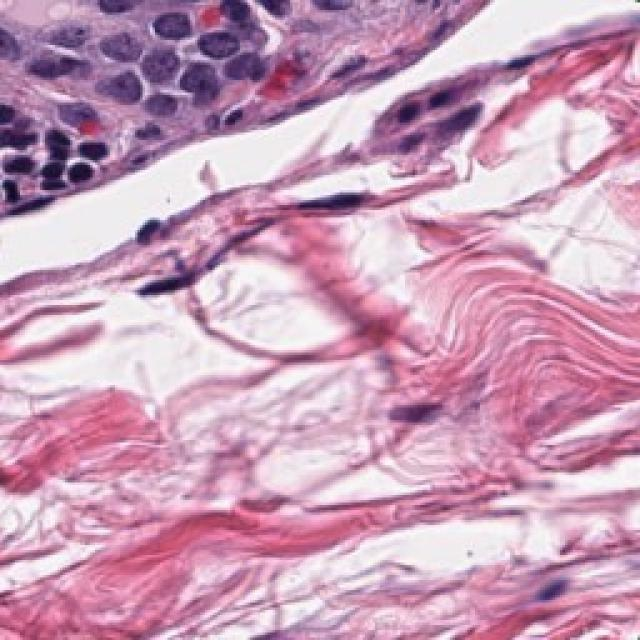normal: (1, 37, 81, 97), (180, 26, 257, 69), (41, 92, 106, 139), (80, 66, 144, 112), (141, 0, 207, 43), (91, 19, 145, 70), (137, 41, 193, 85), (135, 81, 176, 131)
